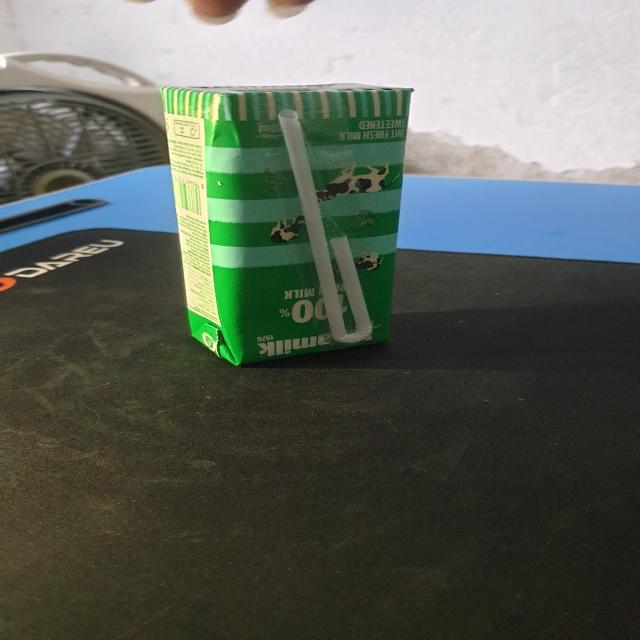Vina: (159, 84, 413, 368)
